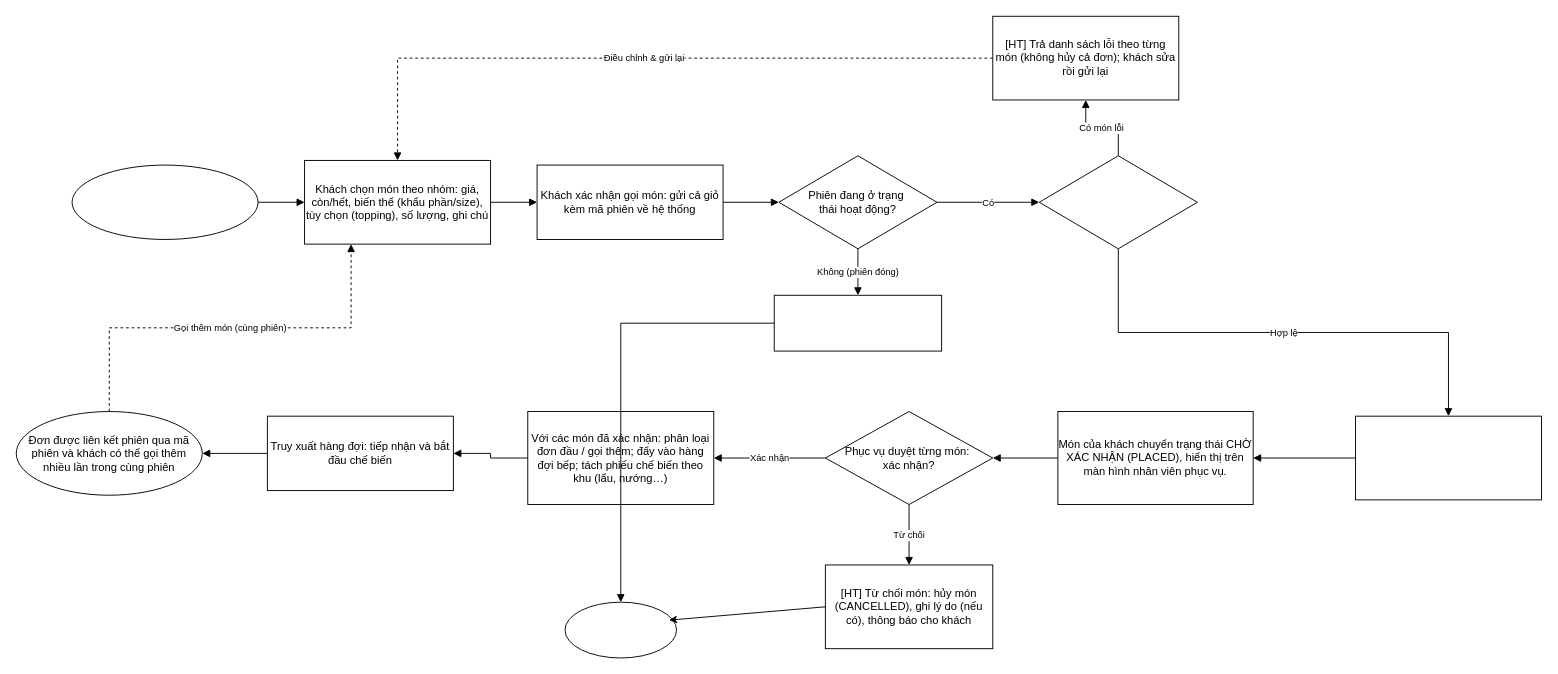
This 1558x674 diagram has some shape labels left out. The box of each missing label's shape, as (x1, y1, x2, y2) in pixels:
Khách mở giao diện gọi món: (71, 164, 258, 239)
Kết thúc: (564, 601, 677, 658)
Mọi món trong giỏ hợp lệ?: (1038, 155, 1197, 249)
Tạo đơn hàng mới + gắn vào phiên phục vụ hiện tại của bàn: (1355, 415, 1541, 500)
Từ chối gọi món (phiên đã chờ thanh toán / đã đóng): (773, 294, 942, 351)
